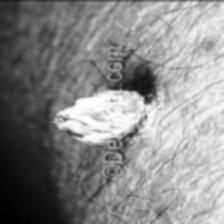Toxin: (57, 85, 148, 144)
